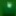green: (0, 0, 16, 16)
